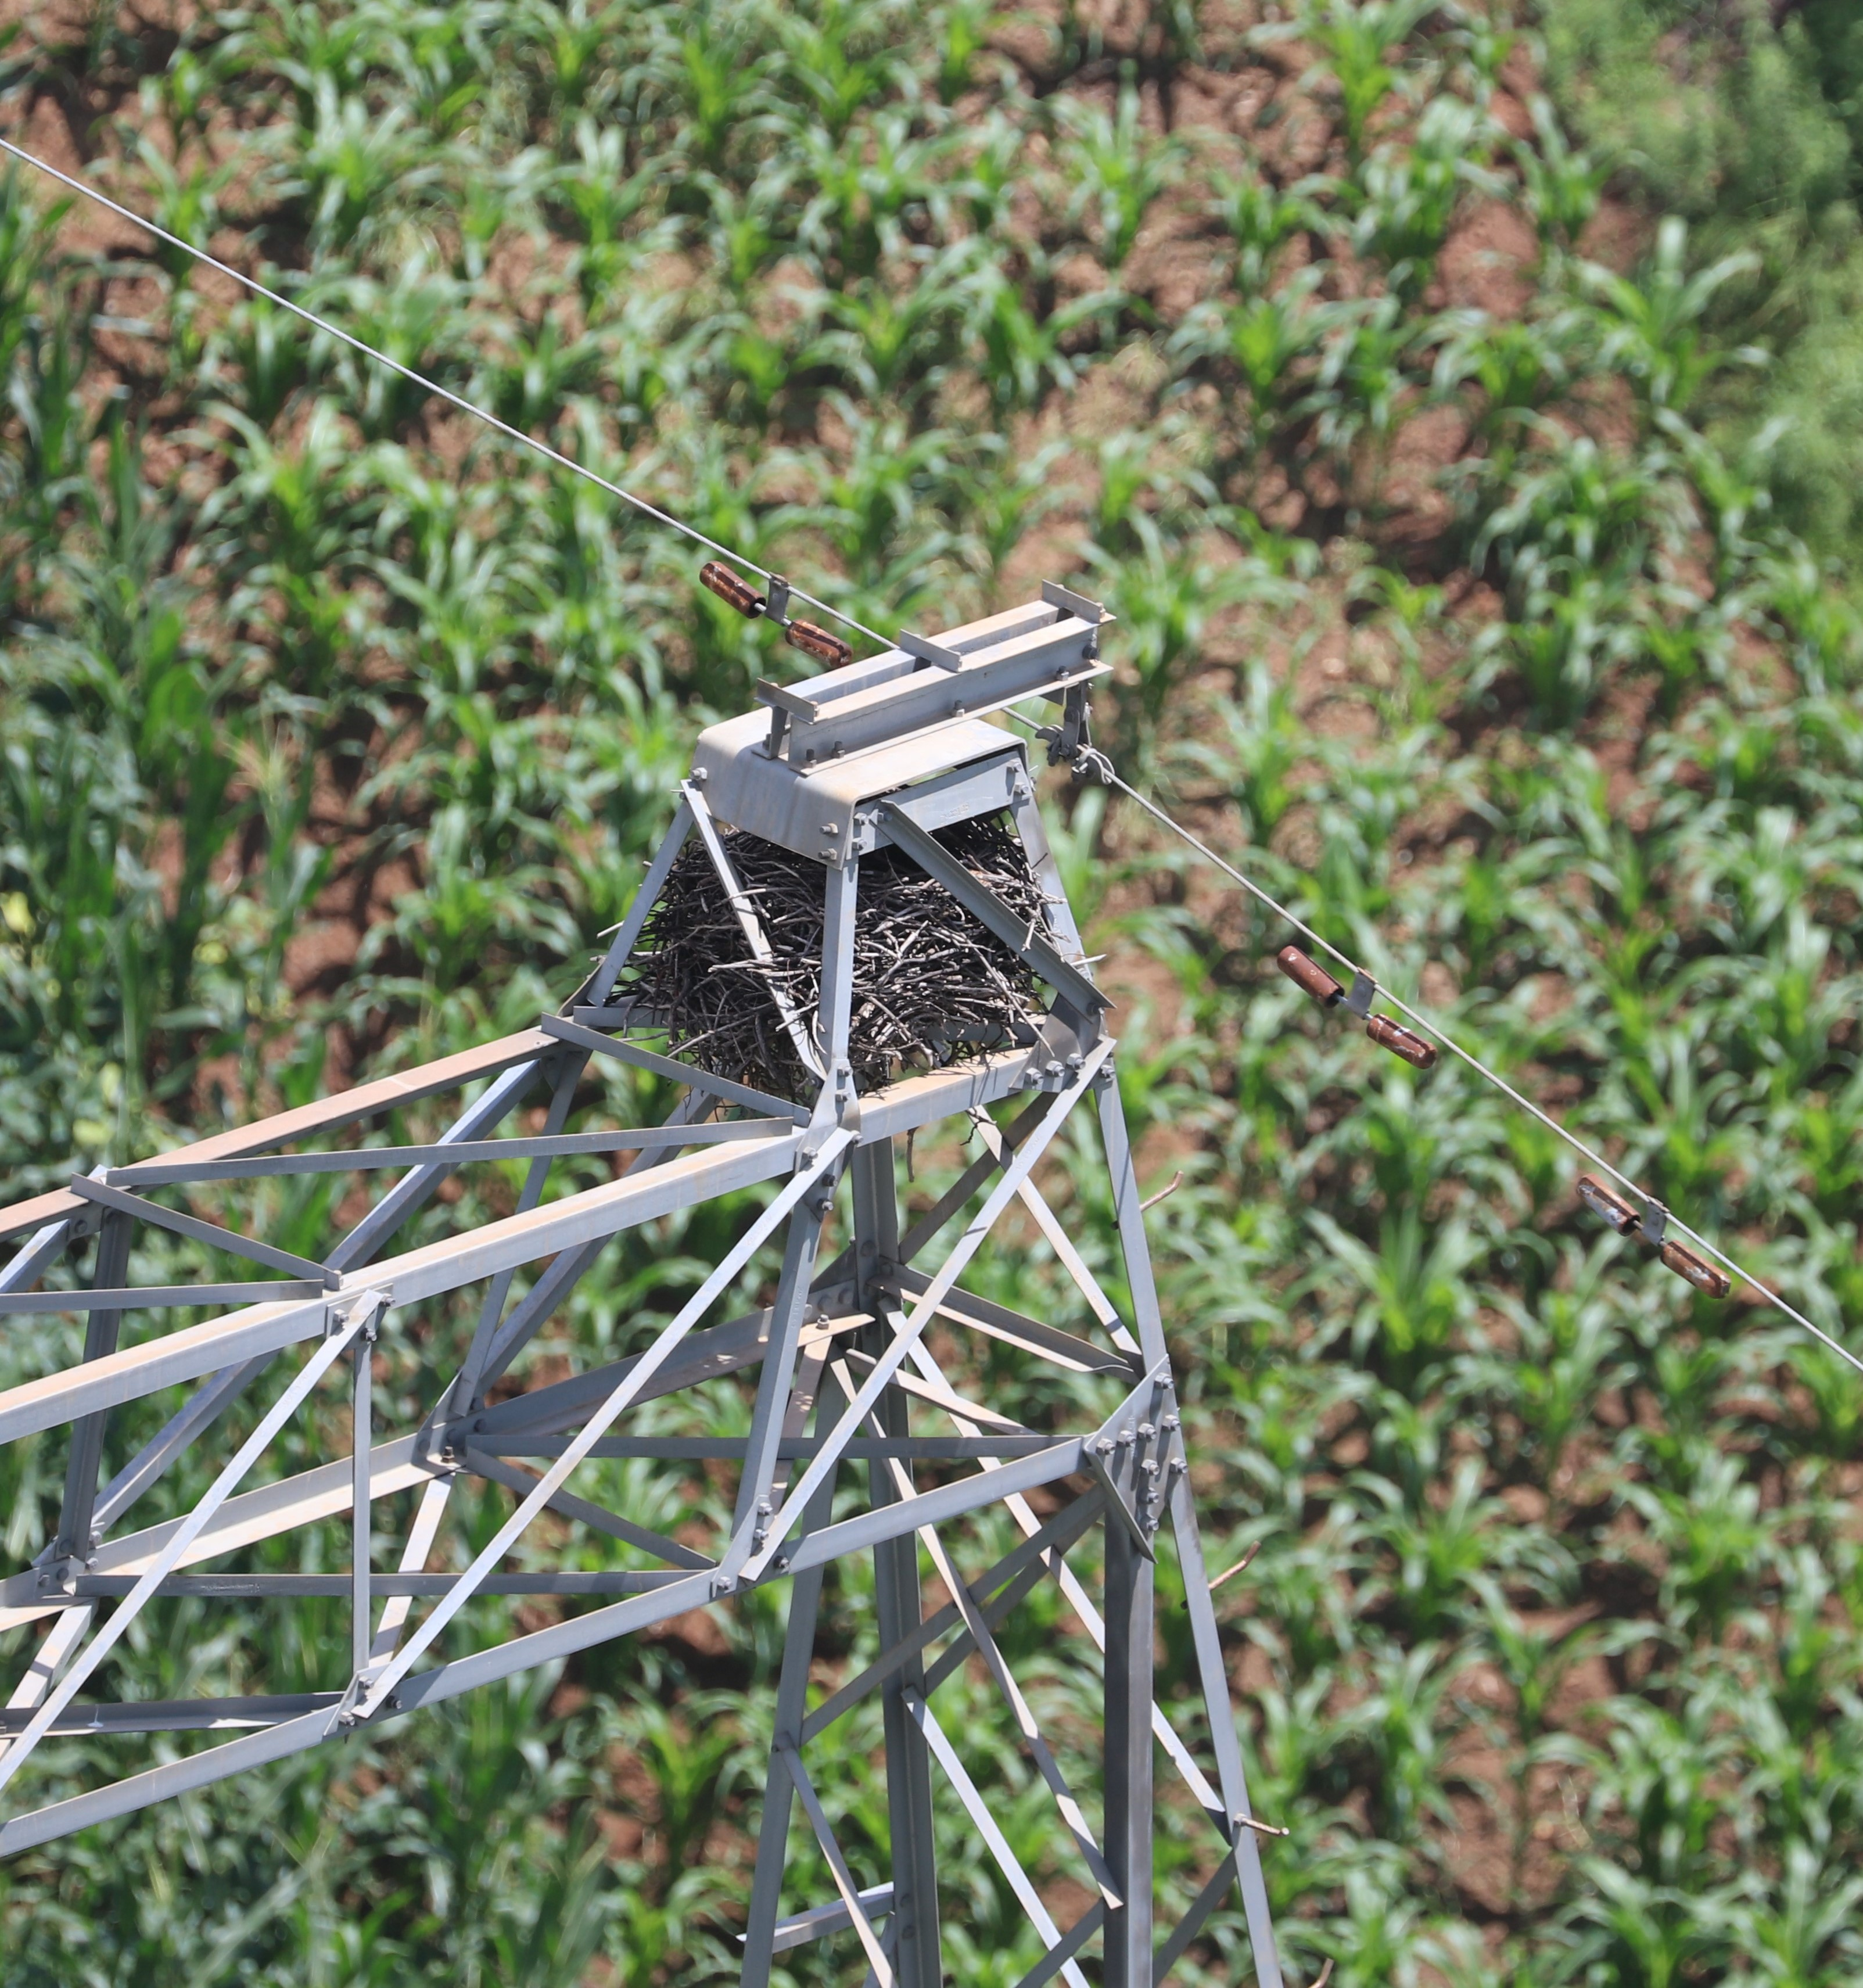niaowo: (609, 757, 1117, 1142)
